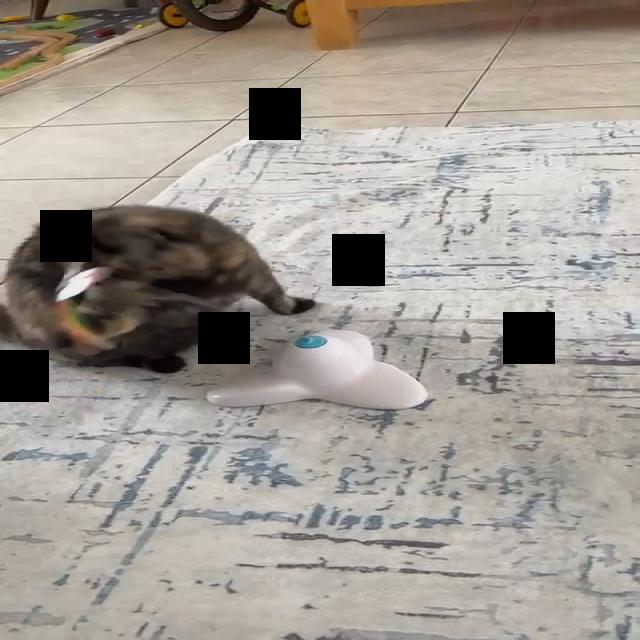authorized: (0, 204, 316, 374)
